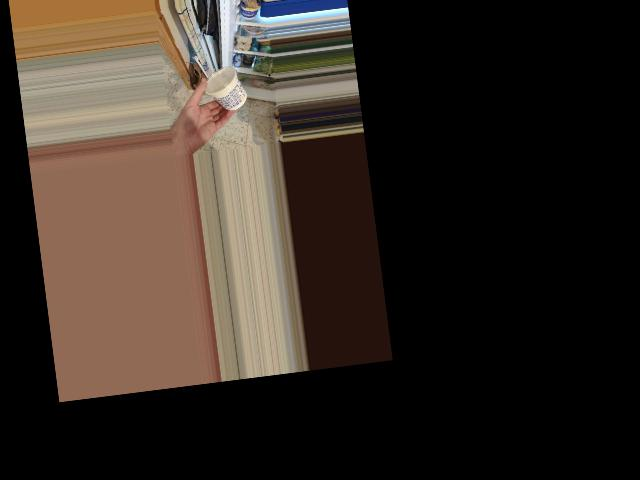cotage: (204, 63, 246, 109)
